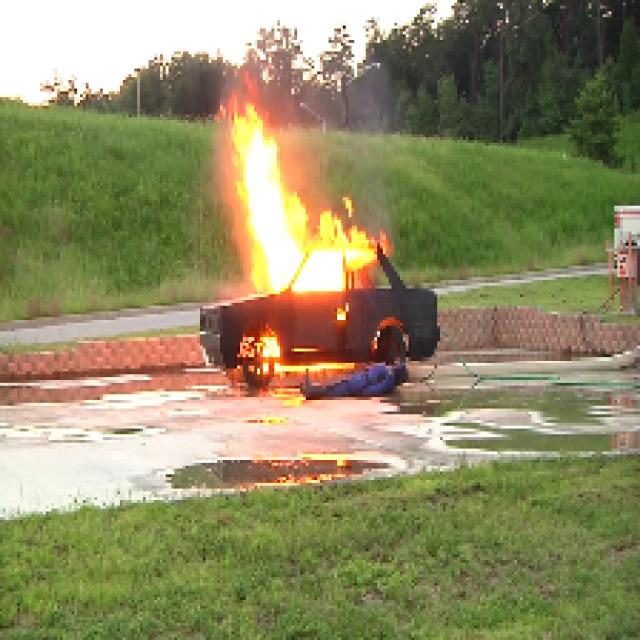fire: (218, 101, 368, 304)
